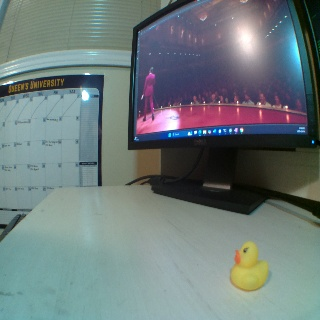duck_regular: (230, 239, 267, 290)
